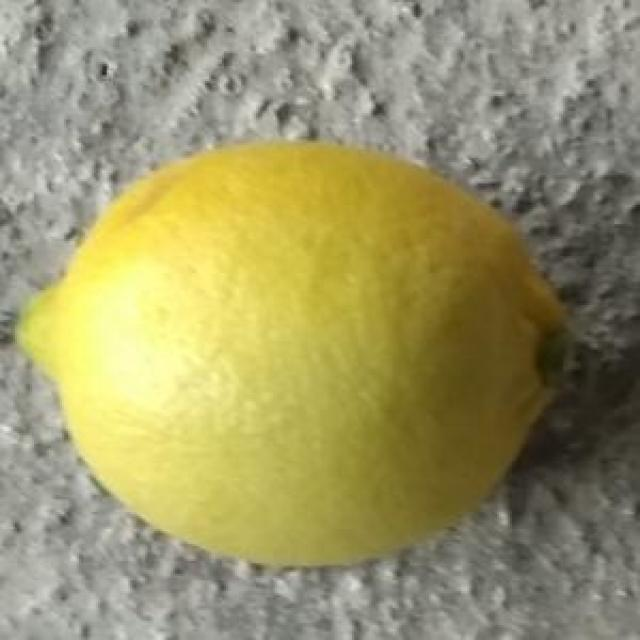lemon: (14, 140, 584, 583)
